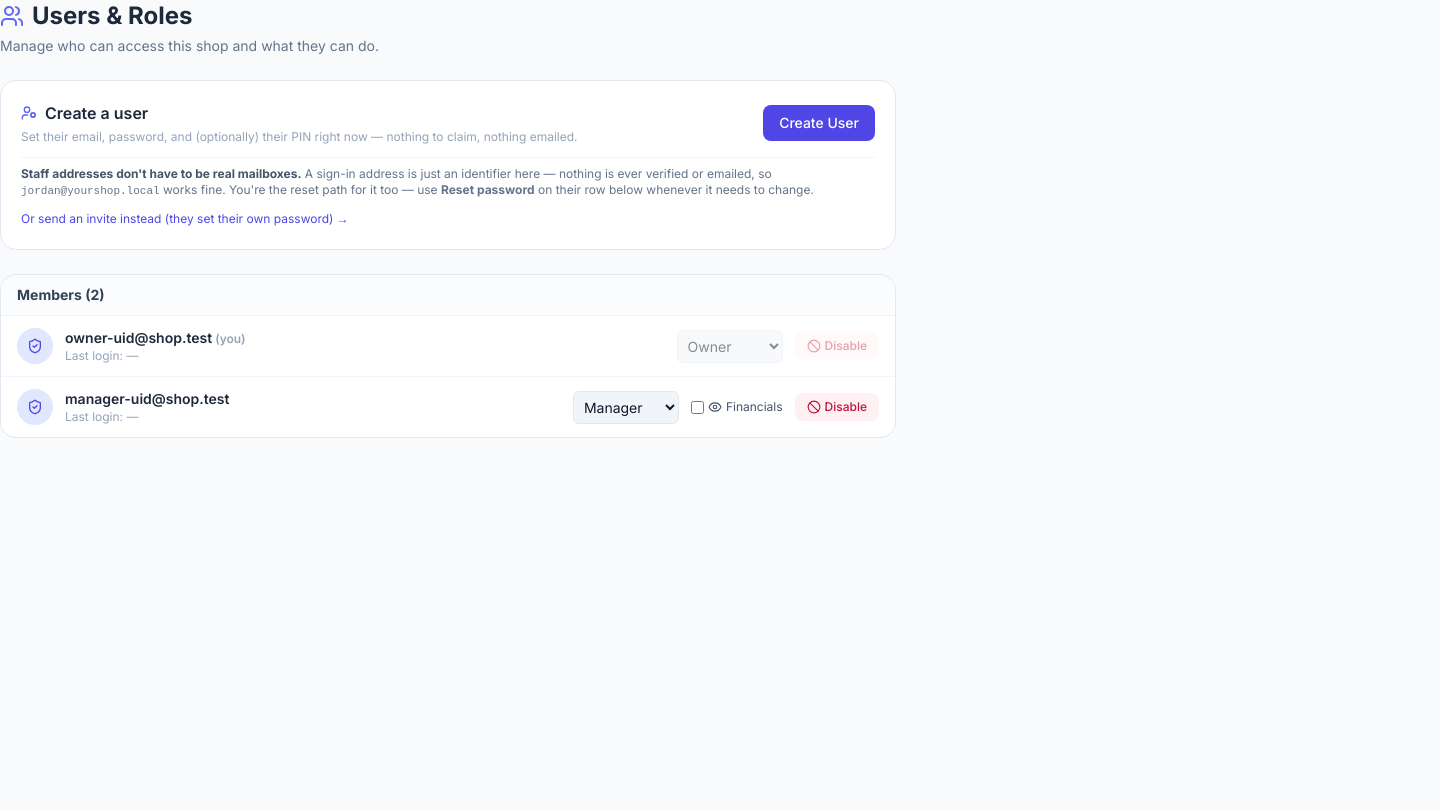
Test: the create-user dialog › warns that nothing is emailed
The width and height of the screenshot is (1440, 810).
Click the button "Create User": (819, 123) [763,105,875,141]
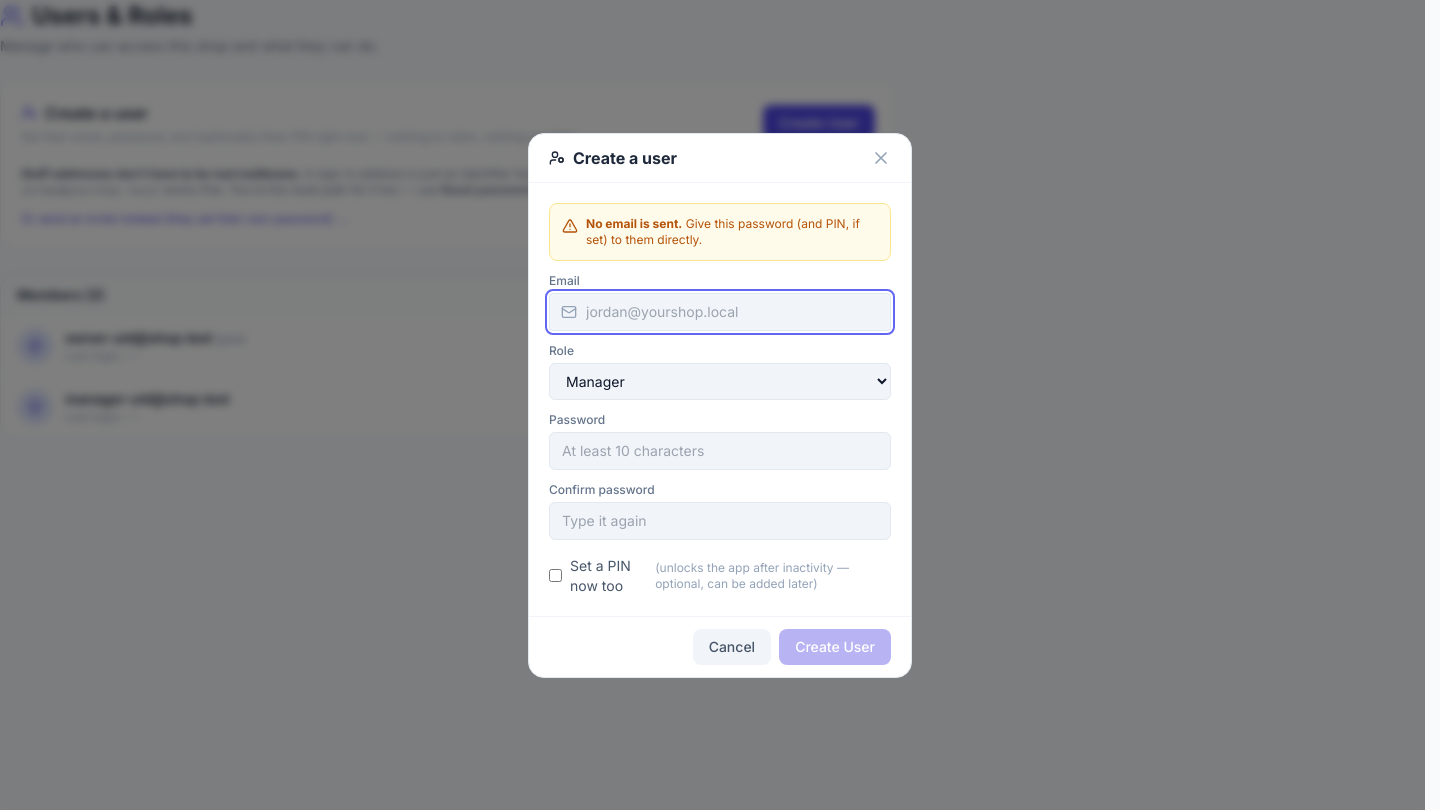
Expected: the text "No email is sent" is shown, [586,216,682,230]
